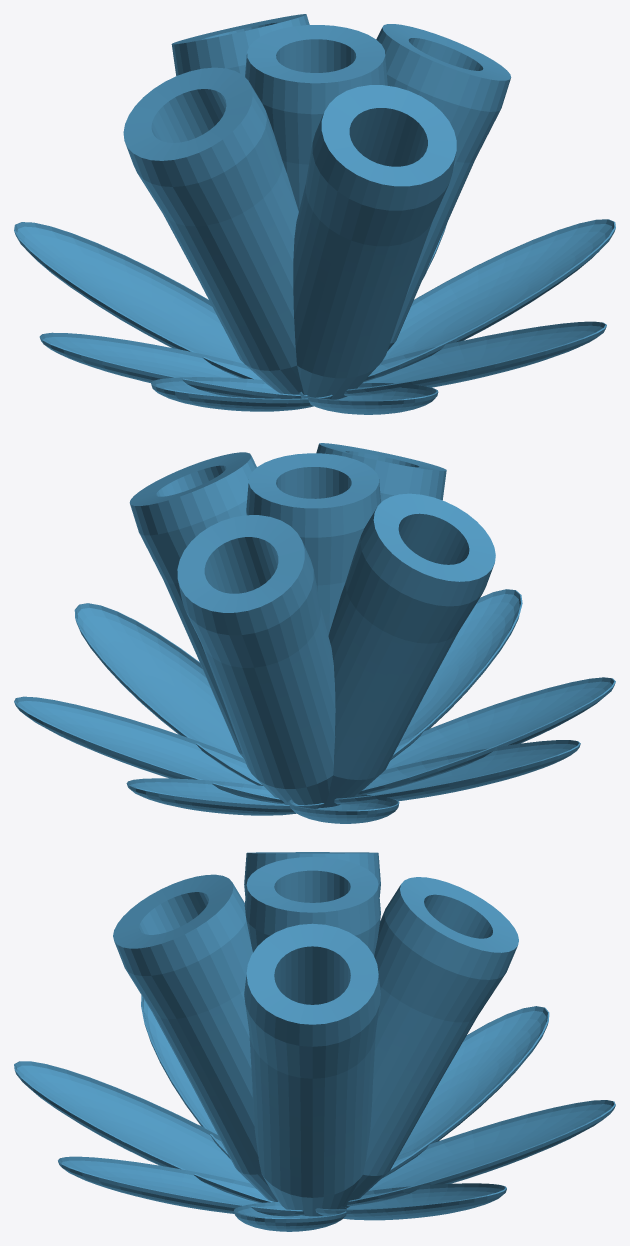
3 renders of one model, top to bottom at view 1: azimuth 30°, elevation 25°; view 2: azimuth 150°, elevation 25°; view 3: azimuth 270°, elevation 25°, orthographic. The views are drawn at different scales.
Parts seen in each view (by area): view 1: Sphere.006; view 2: Sphere.006; view 3: Sphere.006.
Boxes of the visible parts, x1=… form: Sphere.006: x1=14, y1=14, x2=615, y2=414; Sphere.006: x1=14, y1=443, x2=615, y2=823; Sphere.006: x1=14, y1=852, x2=615, y2=1231.
Bounding box in the file's own units: 1.18 × 0.6941 × 1.17.
